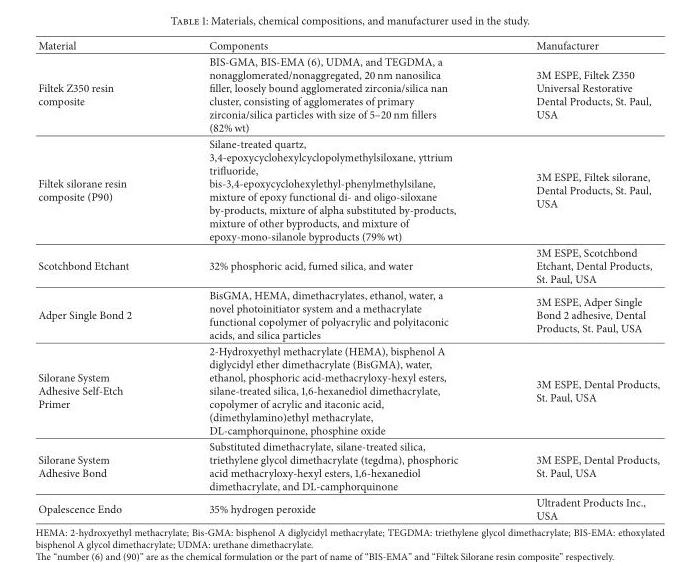table: (37, 37, 659, 522)
table column: (167, 37, 496, 522), (496, 37, 659, 522), (37, 37, 167, 522)
table column header: (37, 37, 659, 53)
table row: (37, 135, 659, 243), (37, 342, 659, 437), (37, 53, 659, 135), (37, 286, 659, 342), (37, 437, 659, 493), (37, 243, 659, 286), (37, 493, 659, 522), (37, 37, 659, 53)
